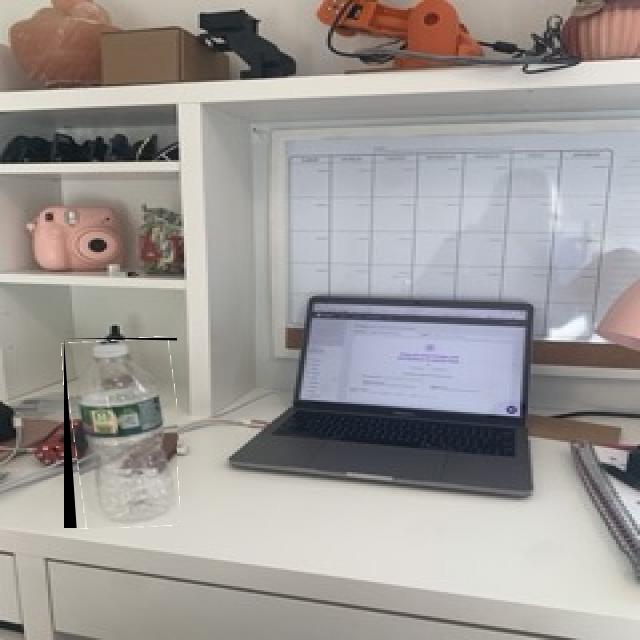water_bottle: (64, 338, 177, 528)
